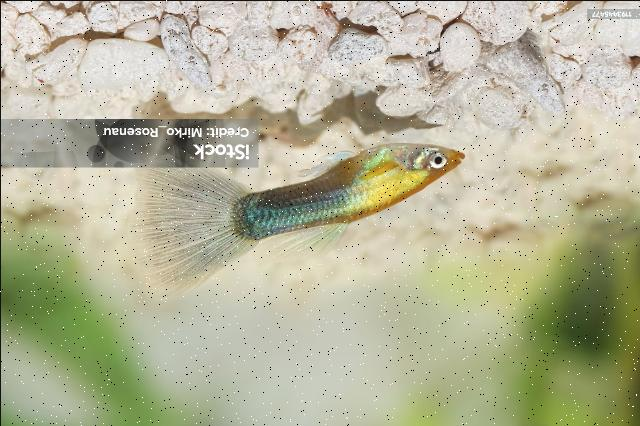Mulut: (440, 132, 480, 182)
Sirip Anal: (287, 154, 337, 194)
Sirip Dada: (352, 146, 406, 187)
Sirip Ekor: (122, 124, 258, 312)
Sirip Perut: (315, 141, 365, 166)
Sirip Punggung: (251, 202, 363, 287)
